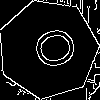O: (23, 24, 79, 75)
